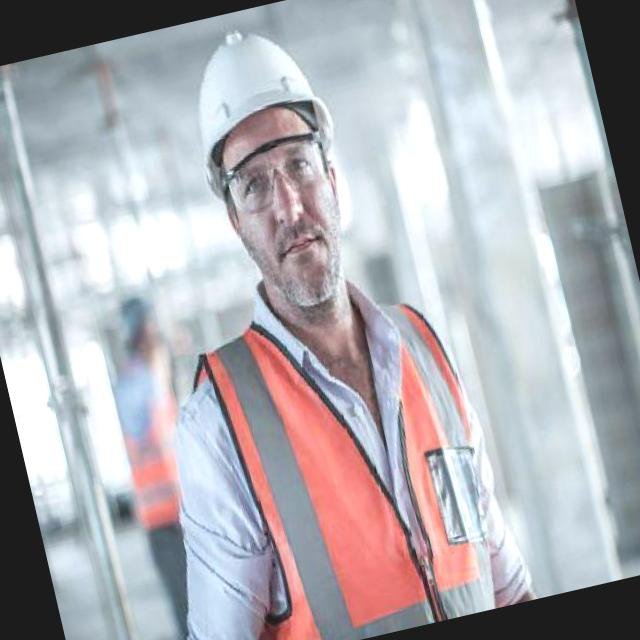vest: (182, 277, 512, 640), (104, 365, 205, 536)
